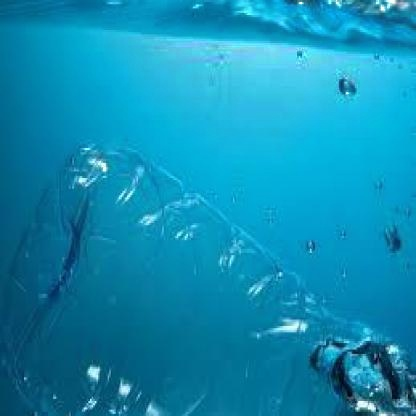pbottle: (1, 137, 416, 416)
